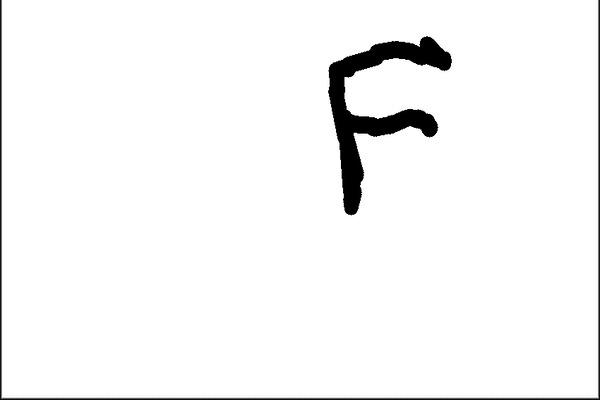F: (321, 33, 455, 217)
